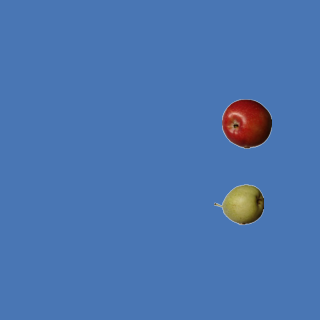Apple Braeburn: (221, 98, 271, 148)
Pear: (213, 179, 263, 229)
